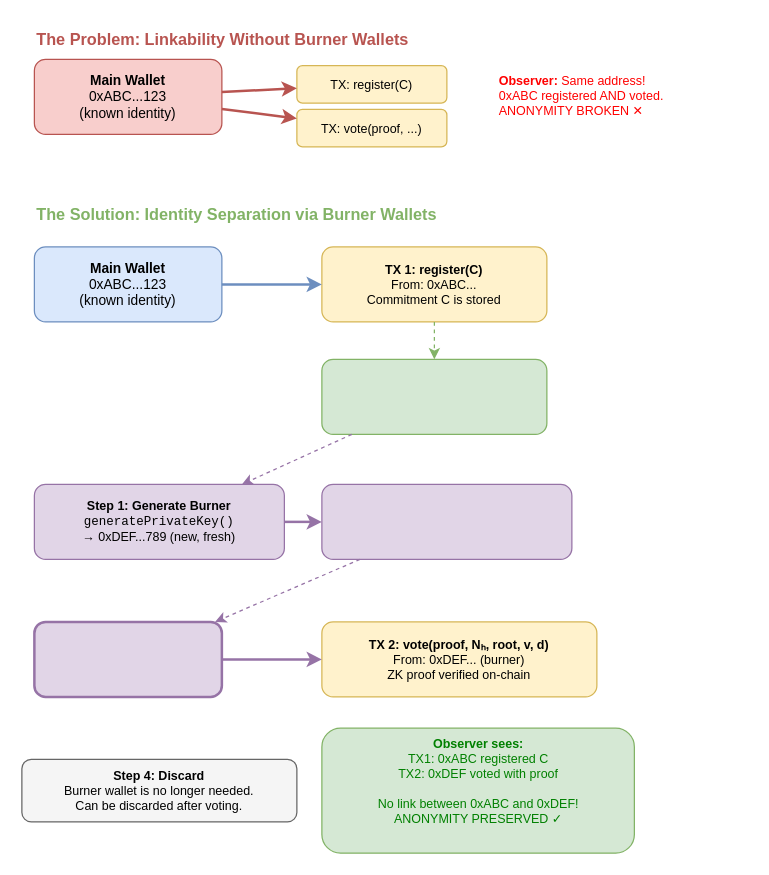
Some shapes in this 769 by 875 pixel diagram are drawn without their labels. The centre of each missing label's shape, as x and y in pixels:
Burner Wallet 0xDEF...789 (NO history): (x=127, y=659)
Step 2: Fund Burner setBalance(0xDEF, 0.01 ETH) [Hardhat] or relay/paymaster: (x=446, y=521)
ZK Proof Generated in browser (WASM) Private inputs never leave: (x=434, y=396)
